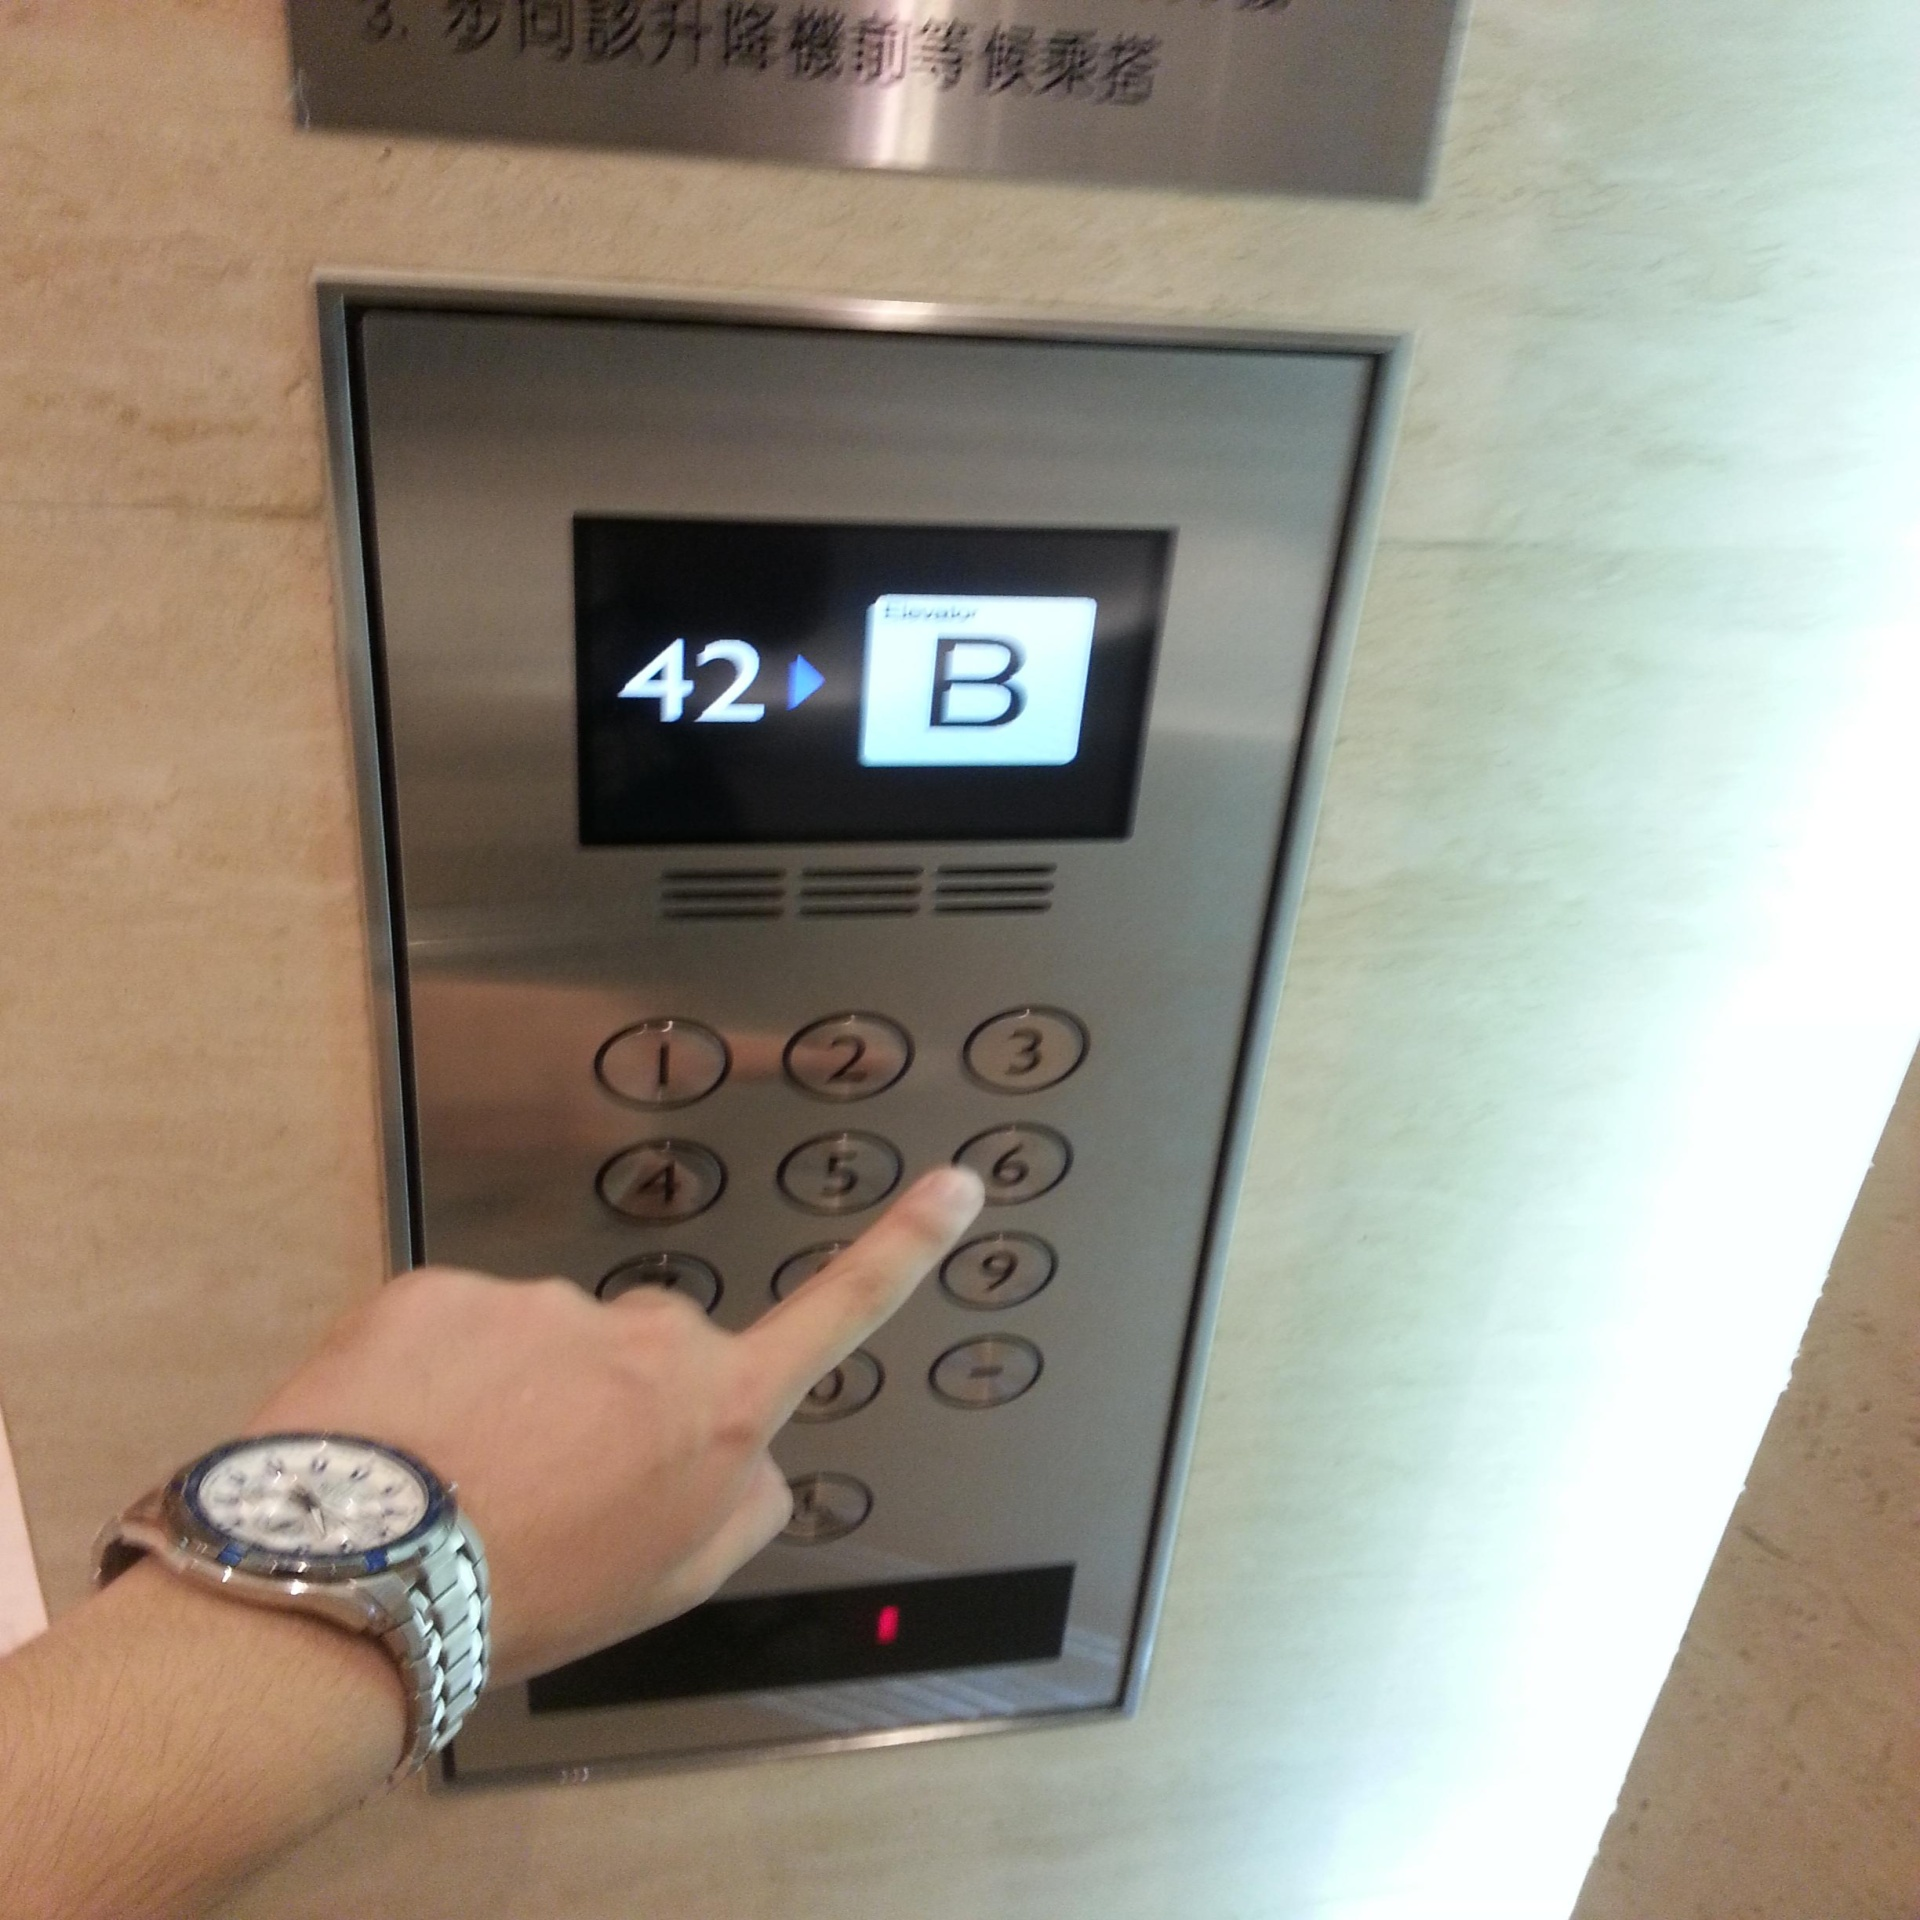-: (921, 1324, 1060, 1415)
1: (582, 1006, 740, 1115)
2: (767, 1000, 925, 1109)
3: (944, 993, 1104, 1102)
4: (582, 1124, 740, 1233)
5: (768, 1118, 911, 1218)
6: (942, 1111, 1085, 1213)
9: (930, 1222, 1067, 1313)
led: (547, 494, 1182, 856), (503, 1551, 1088, 1720)
